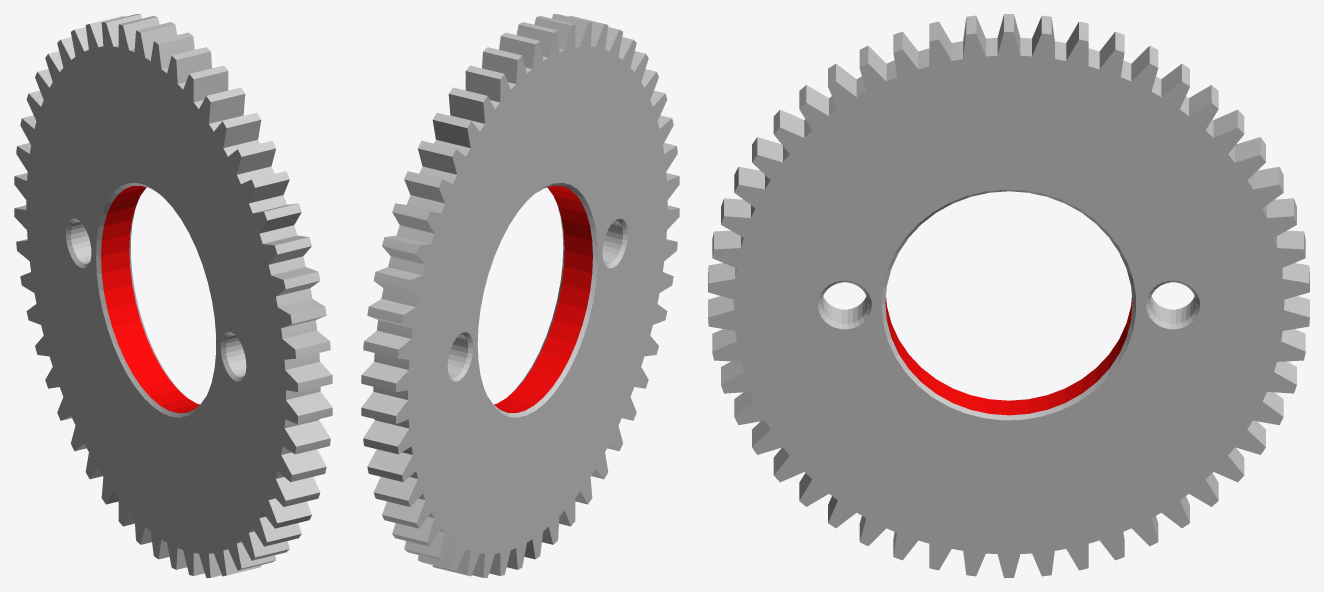
File: 963509_RW44_IT68_stp_52.obj
3 renders of one model, left to right at view 1: azimuth 30°, elevation 25°; view 2: azimuth 150°, elevation 25°; view 3: azimuth 270°, elevation 25°, orthographic. The views are drawn at different scales.
Visible parts, largest first — view 1: Object1; view 2: Object1; view 3: Object1.
Part boxes in pixels (left/top/right/bottom): Object1: left=14, top=14, right=332, bottom=577; Object1: left=361, top=14, right=679, bottom=577; Object1: left=708, top=14, right=1309, bottom=577.
Bounding box in the file's own units: 5.5 × 78 × 77.92.
